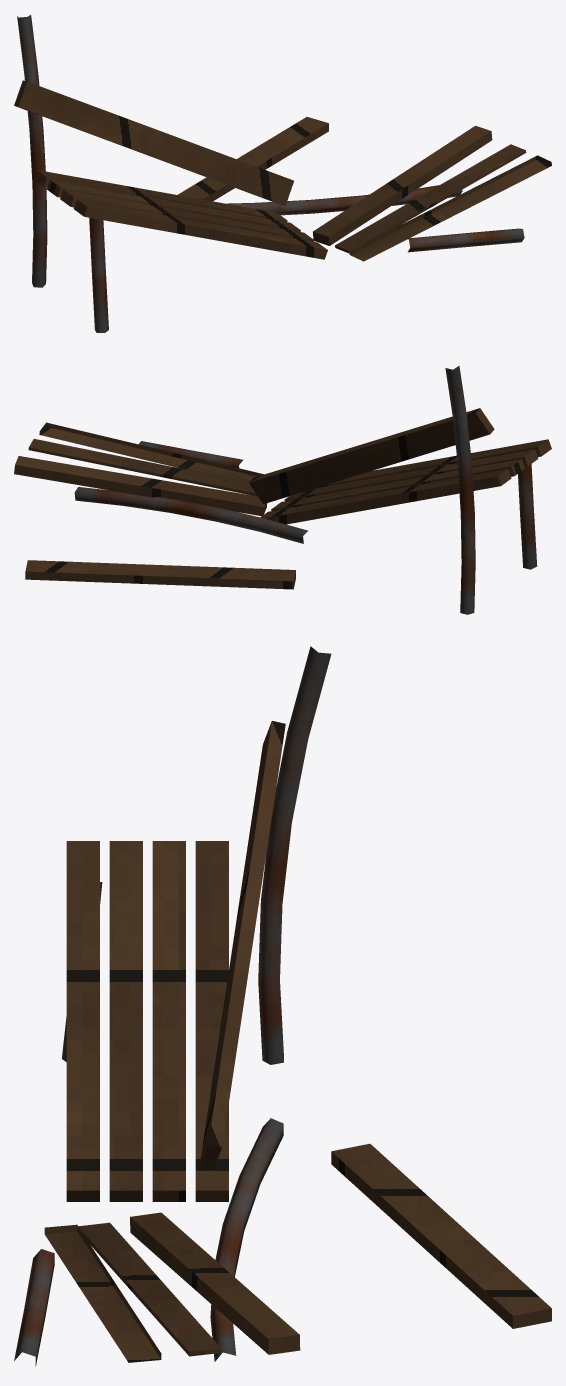
The model's file is park_bench_broken.glb.
3 renders of one model, top to bottom at view 1: azimuth 30°, elevation 25°; view 2: azimuth 150°, elevation 25°; view 3: azimuth 270°, elevation 25°, orthographic. The views are drawn at different scales.
Visible parts, largest first — view 1: detail; view 2: detail; view 3: detail.
Part boxes in pixels (x1=…): detail: x1=14, y1=15, x2=551, y2=332; detail: x1=14, y1=366, x2=551, y2=614; detail: x1=14, y1=646, x2=551, y2=1366.
Size of what is drawn, in the model's own units: 1.89 by 0.958 by 1.13.
2 materials, 2 textured.
